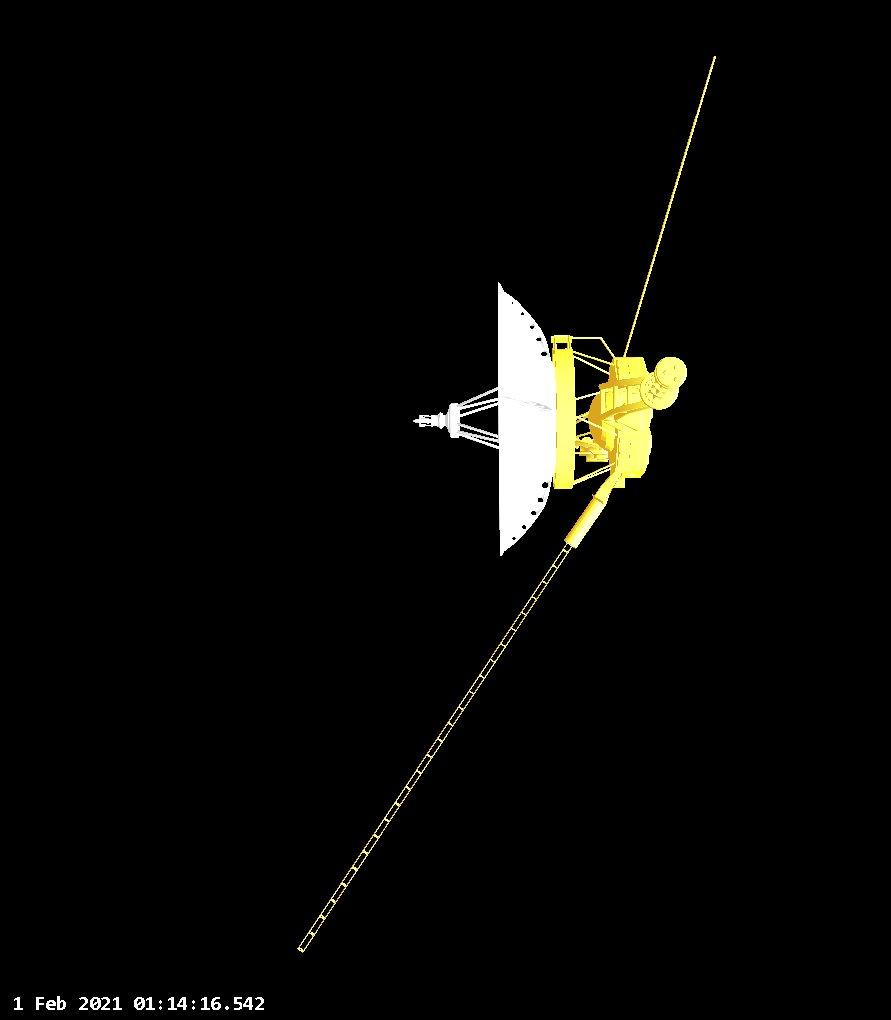antenna: (296, 464, 623, 959), (409, 275, 557, 561), (622, 49, 718, 361)
body: (591, 353, 692, 484)
